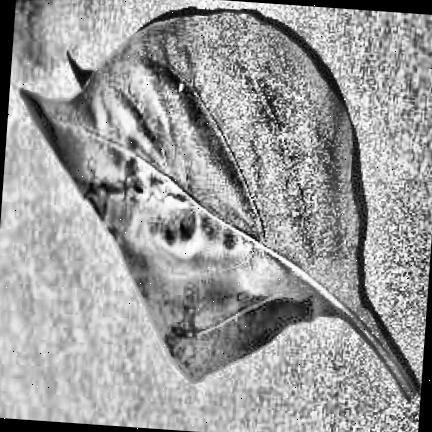leaf: (22, 13, 419, 397)
